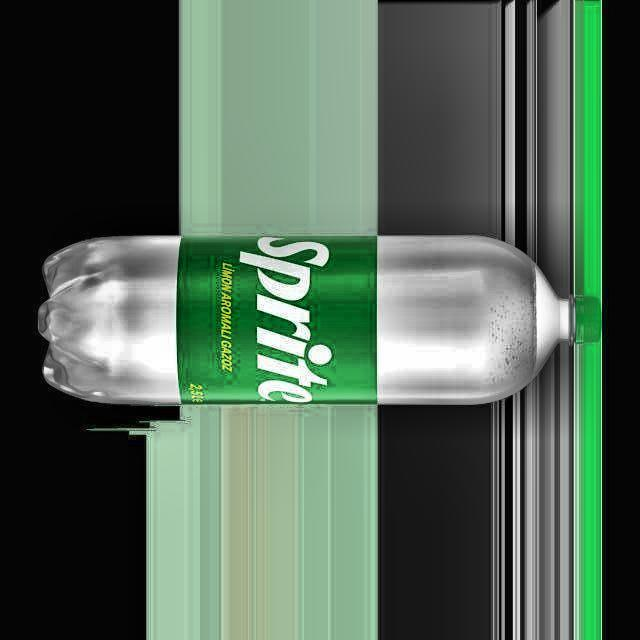plastic: (38, 237, 600, 405)
